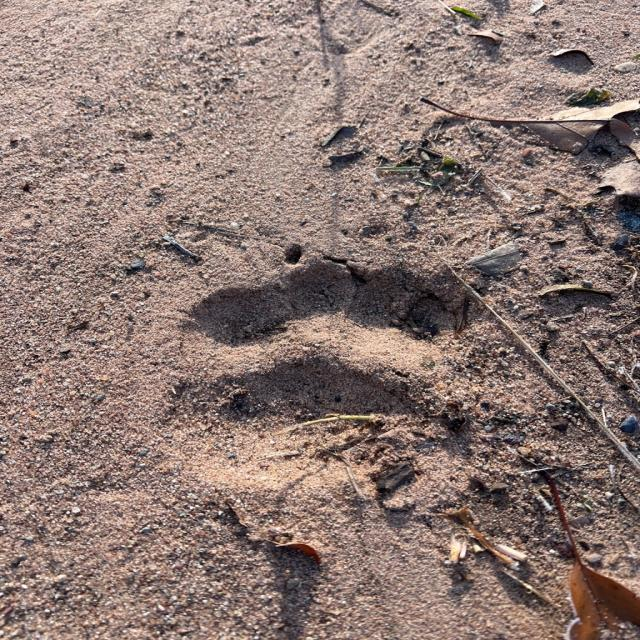bear: (188, 269, 460, 466)
